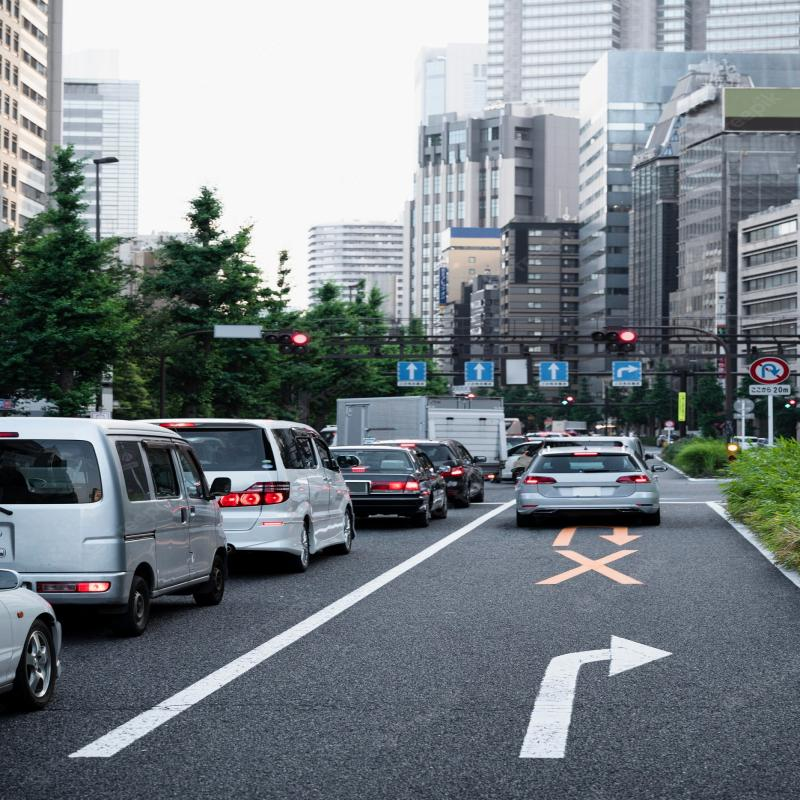car: (0, 396, 228, 633), (176, 403, 325, 556), (514, 442, 656, 517), (308, 440, 436, 517), (370, 436, 481, 498)
